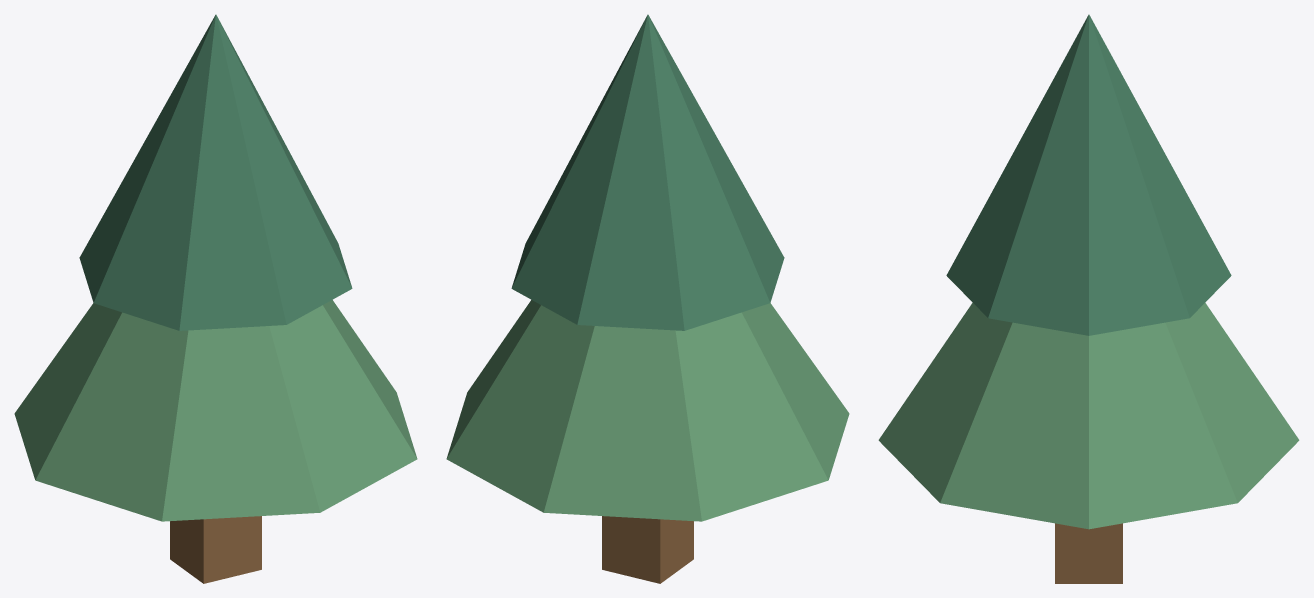
File: pine_tree_young.glb
3 views of the same model, side by side, from view 1: azimuth 30°, elevation 25°; view 2: azimuth 150°, elevation 25°; view 3: azimuth 270°, elevation 25° (orthographic).
Parts seen in each view (by area): view 1: pine_tree_young; view 2: pine_tree_young; view 3: pine_tree_young.
Part boxes in pixels (x1,y1,x2,y2): pine_tree_young: (14, 14, 417, 583); pine_tree_young: (446, 14, 849, 583); pine_tree_young: (878, 14, 1299, 583).
Size of the model in its own units: 1.24 by 1.8 by 1.24.
Materials: 3 (3 with a texture image).
